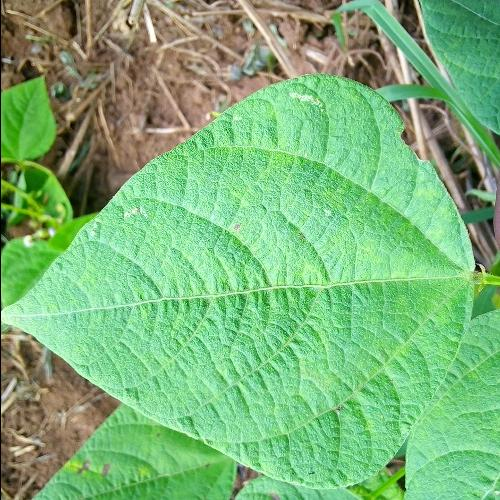sehat: (92, 116, 438, 454)
